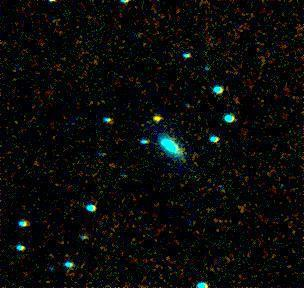star: (141, 104, 171, 134)
